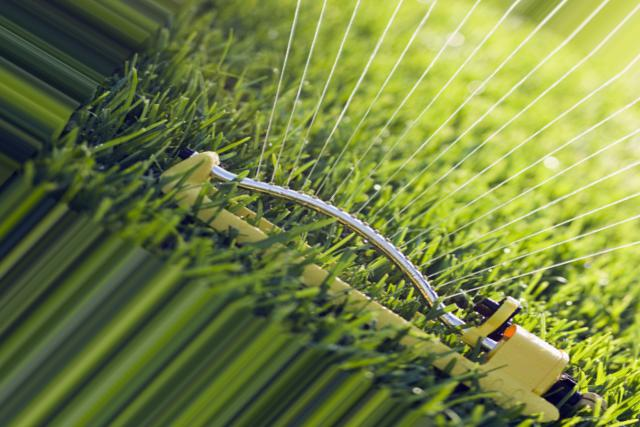patch: (506, 328, 514, 334)
